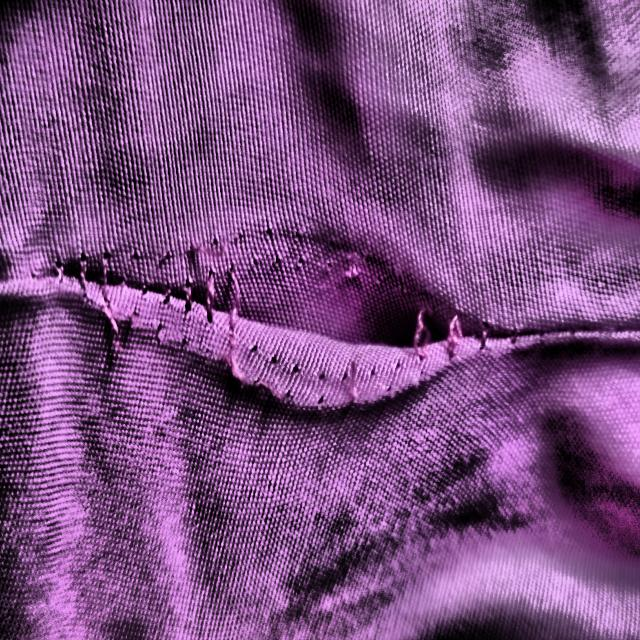seam: (57, 221, 512, 411)
